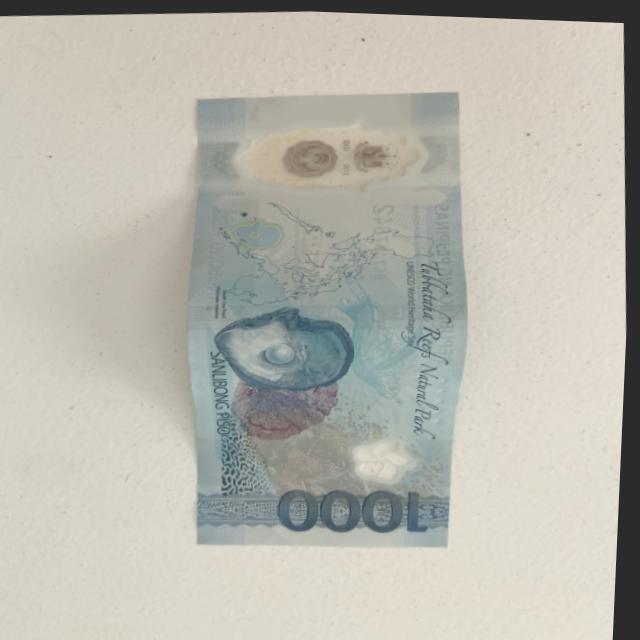clear_window: (207, 129, 467, 182)
sampaguita: (351, 421, 430, 493)
security_thread: (193, 289, 466, 335)
value: (269, 479, 440, 534)
value_watermark: (204, 132, 243, 186)
